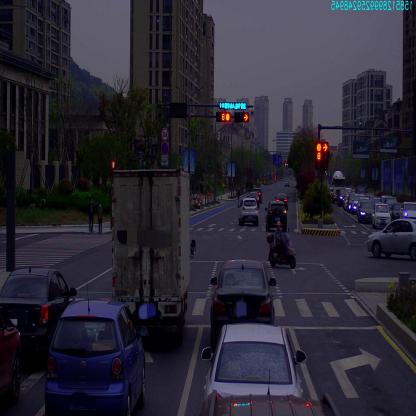traffic-light: (218, 101, 247, 110), (234, 112, 249, 121), (218, 112, 231, 122)
